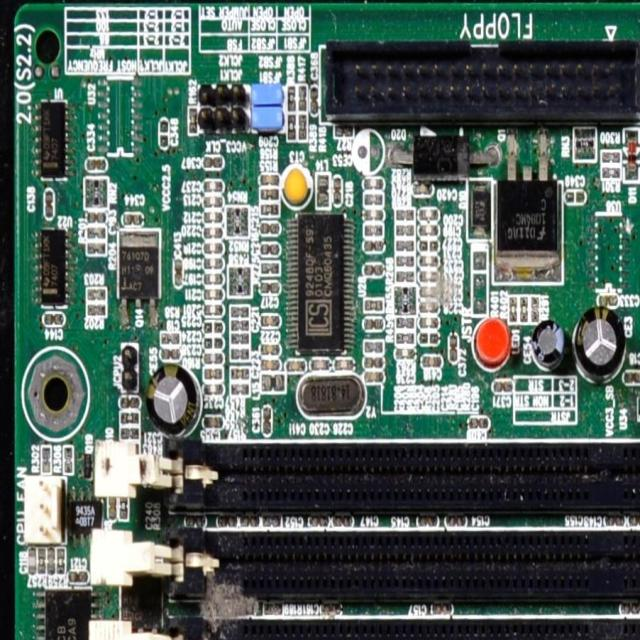IC: (284, 214, 356, 356), (33, 96, 76, 184), (31, 589, 101, 640), (119, 230, 158, 317), (590, 212, 632, 290), (35, 229, 74, 305)
capacitor: (200, 154, 226, 169), (308, 86, 320, 116), (258, 242, 281, 257), (261, 311, 281, 328), (362, 175, 384, 190), (88, 155, 108, 171), (86, 212, 106, 228), (418, 207, 439, 222), (419, 239, 440, 254), (566, 189, 588, 203), (261, 219, 279, 236), (421, 268, 439, 285), (119, 213, 144, 225), (172, 256, 182, 286), (205, 285, 225, 300), (363, 192, 384, 206), (361, 206, 382, 220), (419, 254, 440, 268), (596, 296, 620, 308), (421, 300, 439, 316), (258, 173, 280, 186), (258, 281, 280, 294), (422, 354, 444, 367), (44, 313, 64, 327), (260, 358, 281, 371), (67, 570, 88, 583), (205, 270, 222, 286), (27, 547, 37, 574), (420, 284, 439, 298), (361, 239, 383, 251), (258, 343, 280, 355), (414, 182, 434, 195), (396, 346, 416, 359), (201, 180, 224, 191), (44, 190, 53, 218), (448, 335, 458, 360), (160, 117, 168, 148), (204, 212, 224, 224), (204, 242, 224, 254), (336, 359, 356, 371), (120, 396, 140, 408), (206, 303, 224, 316), (202, 385, 223, 396), (204, 258, 223, 270), (419, 333, 438, 345), (333, 176, 341, 204), (162, 348, 178, 362), (205, 195, 222, 208), (203, 228, 223, 239), (204, 322, 224, 333), (310, 358, 332, 368), (204, 336, 222, 348), (286, 359, 304, 371), (204, 352, 223, 363), (420, 224, 437, 236), (421, 316, 439, 327), (204, 415, 222, 426), (264, 406, 271, 434), (623, 372, 640, 383), (364, 225, 381, 235)
connector: (143, 430, 640, 502), (154, 520, 640, 591), (335, 38, 631, 125), (171, 599, 640, 639)
resistor: (63, 444, 74, 475), (492, 377, 512, 394), (507, 294, 518, 323), (258, 187, 280, 201), (394, 316, 416, 330), (260, 201, 280, 216), (519, 292, 529, 322), (599, 165, 620, 179), (599, 150, 621, 163), (287, 112, 297, 140), (40, 446, 50, 474), (86, 228, 105, 242), (85, 288, 107, 300), (396, 210, 416, 223), (86, 242, 106, 255), (87, 302, 107, 315), (159, 332, 179, 345), (297, 86, 307, 112), (397, 329, 414, 344), (260, 261, 281, 273), (397, 270, 415, 284), (531, 295, 540, 323), (119, 427, 140, 439), (396, 239, 415, 252), (56, 548, 65, 574), (287, 86, 296, 112), (188, 105, 196, 134), (397, 254, 414, 267), (118, 410, 136, 422), (38, 546, 46, 573), (395, 224, 413, 235), (206, 369, 221, 380)
transistor: (495, 175, 563, 285), (83, 450, 95, 481)
